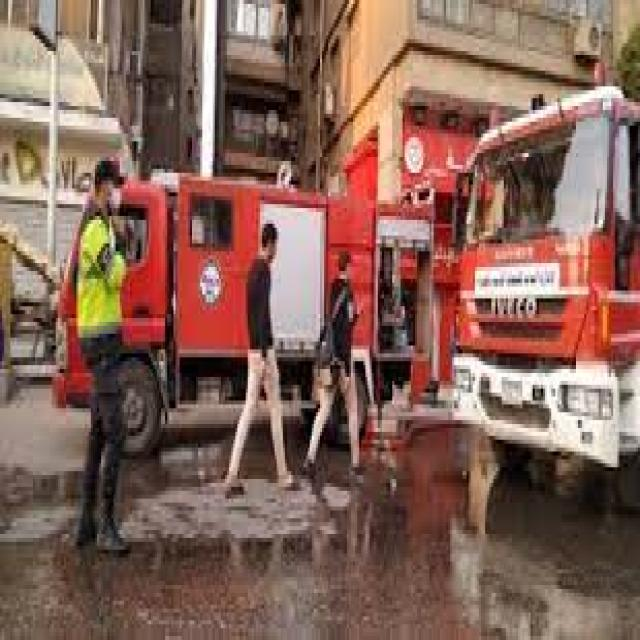pompier: (57, 156, 367, 425), (454, 86, 640, 475)
